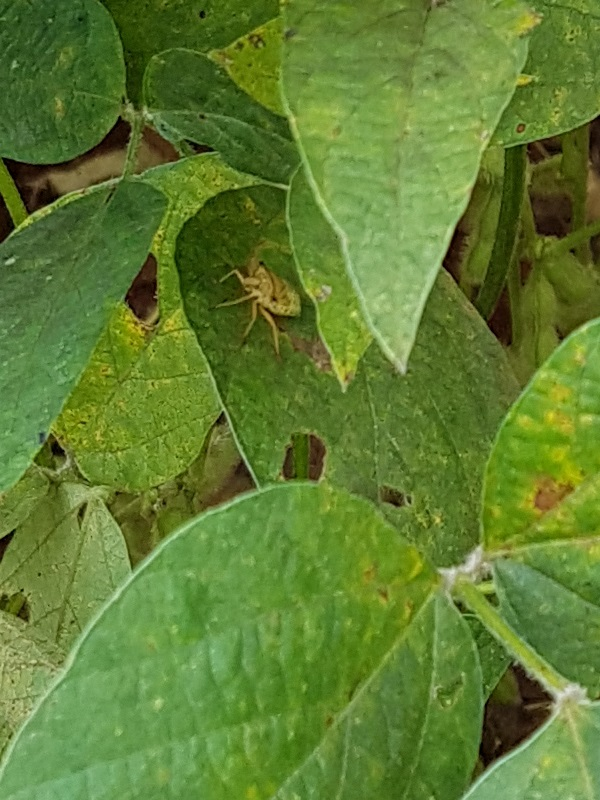Euschistus_heros_ninfa: (207, 251, 313, 363)
